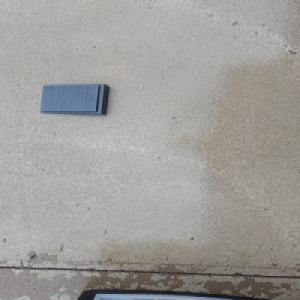PlasticPart: (38, 83, 110, 116)
